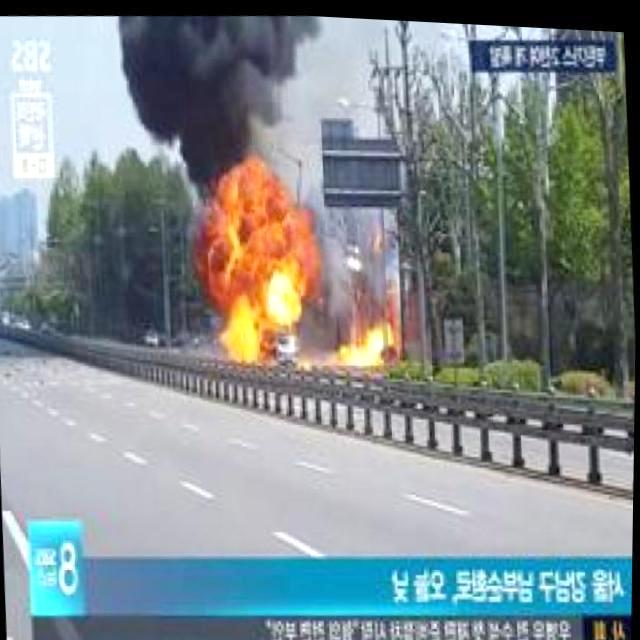fire: (195, 200, 322, 328), (200, 164, 298, 208), (340, 320, 400, 368), (216, 323, 270, 362)
